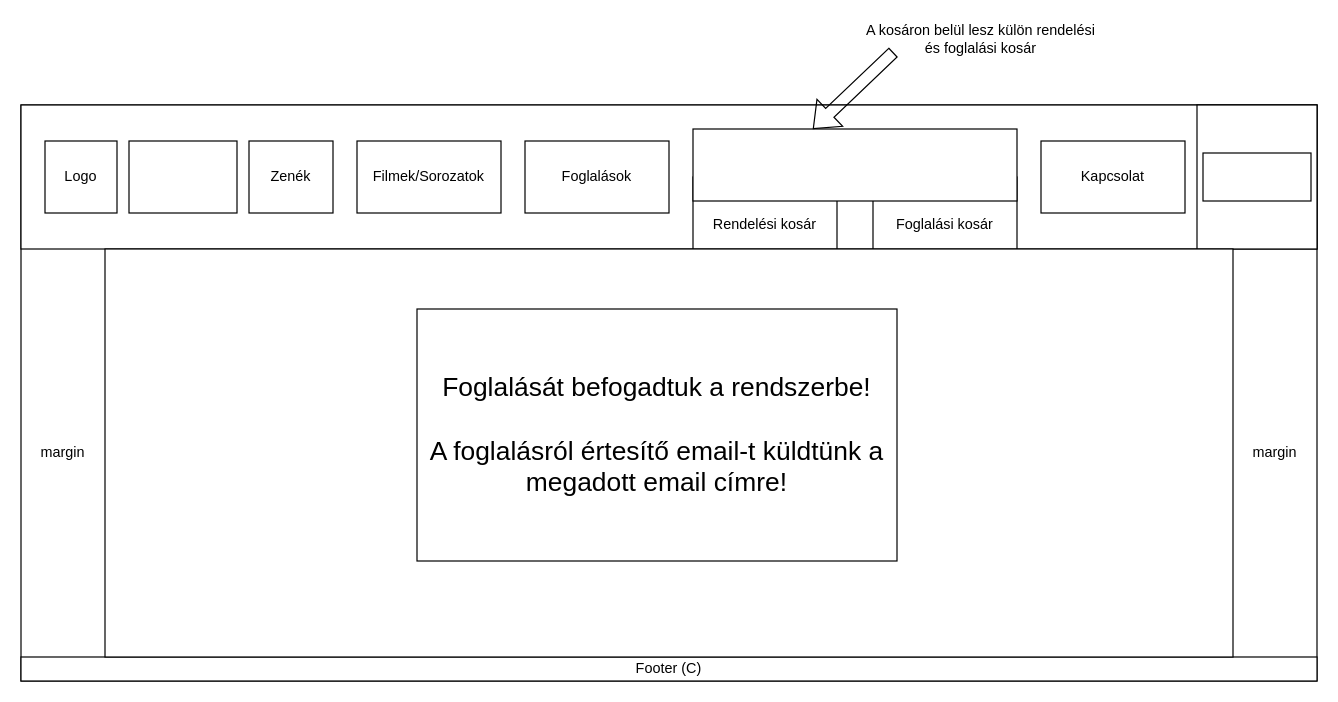
The diagram is 1338 pixels wide and 702 high, and some of its shapes have lost their labels. Here are the shapes that lost their labels. From the top down, the centre of each, then its label:
point 182,176: Kezdőlap
point 854,164: Kosár
point 1256,176: Fiók bej/reg
